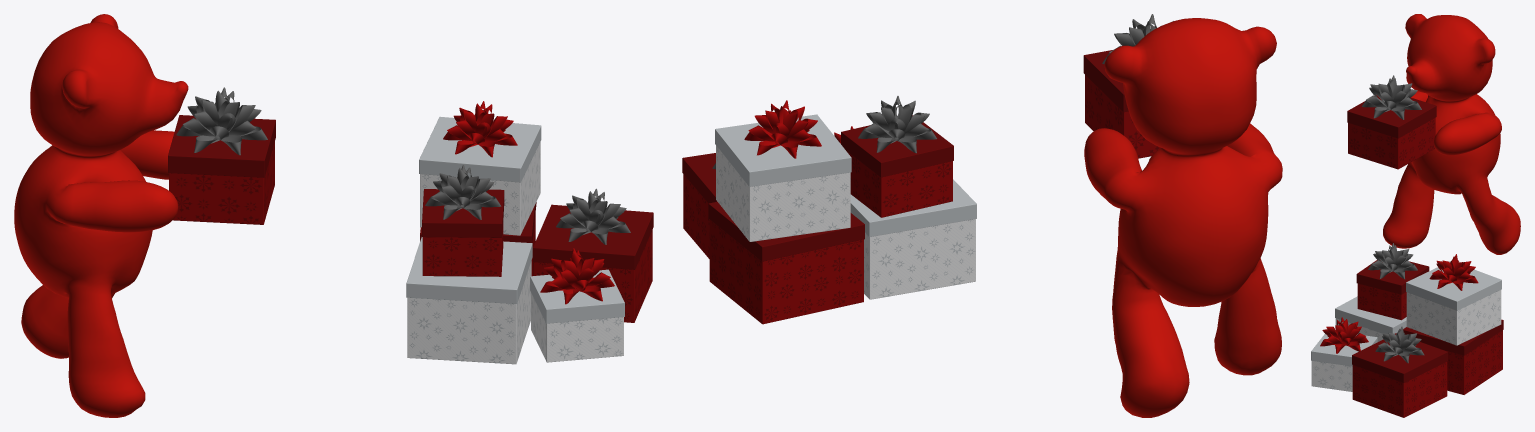
File: osoRegalos2.glb
3 renders of one model, left to right at view 1: azimuth 30°, elevation 25°; view 2: azimuth 150°, elevation 25°; view 3: azimuth 270°, elevation 25°, orthographic. The views are drawn at different scales.
Visible parts, largest first — view 1: Oso_Dando_Regalo:Group42068, cgaxis_models_39_28_01_1.001, cgaxis_models_39_28_02_4, cgaxis_models_39_28_01_2.001, cgaxis_models_39_28_01_3.001, cgaxis_models_39_28_02_3.001, cgaxis_models_39_28_02_1.001, cgaxis_models_39_28_04_3, cgaxis_models_39_28_03_1.001, cgaxis_models_39_28_04_1.001, cgaxis_models_39_28_04_2.001, cgaxis_models_39_28_03_2.001 (+1 smaller); view 2: Oso_Dando_Regalo:Group42068, cgaxis_models_39_28_01_2.001, cgaxis_models_39_28_02_2.001, cgaxis_models_39_28_01_1.001, cgaxis_models_39_28_02_1.001, cgaxis_models_39_28_02_4, cgaxis_models_39_28_02_3.001, cgaxis_models_39_28_03_1.001, cgaxis_models_39_28_04_1.001, cgaxis_models_39_28_04_3; view 3: Oso_Dando_Regalo:Group42068, cgaxis_models_39_28_01_2.001, cgaxis_models_39_28_02_3.001, cgaxis_models_39_28_02_4, cgaxis_models_39_28_02_2.001, cgaxis_models_39_28_02_1.001, cgaxis_models_39_28_01_3.001, cgaxis_models_39_28_04_3, cgaxis_models_39_28_01_1.001, cgaxis_models_39_28_03_2.001, cgaxis_models_39_28_04_2.001, cgaxis_models_39_28_04_1.001 (+1 smaller).
Boxes of the visible parts, x1,y1,x2,y2 form: Oso_Dando_Regalo:Group42068: [14, 14, 188, 417]; cgaxis_models_39_28_01_1.001: [406, 237, 532, 364]; cgaxis_models_39_28_02_4: [168, 115, 275, 224]; cgaxis_models_39_28_01_2.001: [419, 116, 541, 235]; cgaxis_models_39_28_01_3.001: [530, 269, 624, 362]; cgaxis_models_39_28_02_3.001: [533, 204, 653, 322]; cgaxis_models_39_28_02_1.001: [422, 189, 504, 276]; cgaxis_models_39_28_04_3: [176, 87, 267, 155]; cgaxis_models_39_28_03_1.001: [443, 101, 517, 157]; cgaxis_models_39_28_04_1.001: [425, 165, 501, 219]; cgaxis_models_39_28_04_2.001: [556, 188, 630, 244]; cgaxis_models_39_28_03_2.001: [540, 248, 614, 304]; Oso_Dando_Regalo:Group42068: [1084, 18, 1282, 417]; cgaxis_models_39_28_01_2.001: [715, 114, 851, 241]; cgaxis_models_39_28_02_2.001: [708, 201, 864, 324]; cgaxis_models_39_28_01_1.001: [850, 179, 976, 299]; cgaxis_models_39_28_02_1.001: [841, 115, 953, 217]; cgaxis_models_39_28_02_4: [1083, 50, 1160, 158]; cgaxis_models_39_28_02_3.001: [682, 153, 716, 258]; cgaxis_models_39_28_03_1.001: [744, 100, 821, 158]; cgaxis_models_39_28_04_1.001: [858, 96, 936, 153]; cgaxis_models_39_28_04_3: [1102, 14, 1173, 64]; Oso_Dando_Regalo:Group42068: [1383, 14, 1520, 254]; cgaxis_models_39_28_01_2.001: [1406, 261, 1501, 345]; cgaxis_models_39_28_02_3.001: [1352, 333, 1447, 417]; cgaxis_models_39_28_02_4: [1347, 95, 1436, 169]; cgaxis_models_39_28_02_2.001: [1403, 319, 1503, 394]; cgaxis_models_39_28_02_1.001: [1356, 260, 1429, 320]; cgaxis_models_39_28_01_3.001: [1311, 334, 1377, 391]; cgaxis_models_39_28_04_3: [1362, 75, 1421, 119]; cgaxis_models_39_28_01_1.001: [1335, 296, 1406, 341]; cgaxis_models_39_28_03_2.001: [1320, 317, 1368, 353]; cgaxis_models_39_28_04_2.001: [1375, 326, 1424, 363]; cgaxis_models_39_28_04_1.001: [1368, 243, 1417, 279].
Bounding box in the file's own units: 2.11 × 1.21 × 0.9852.
5 materials, 2 textured.
